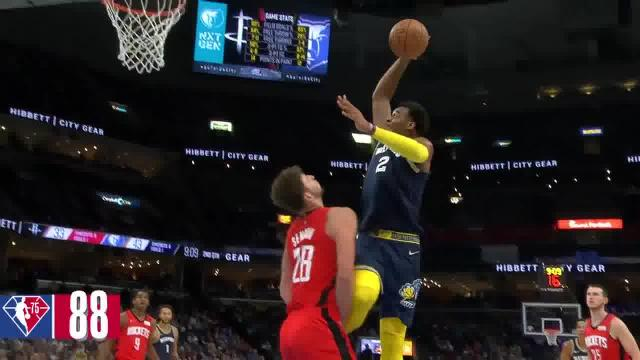ball-handler: (321, 15, 434, 360)
player: (266, 160, 356, 360), (580, 280, 640, 360), (102, 286, 154, 360), (147, 304, 183, 360)
